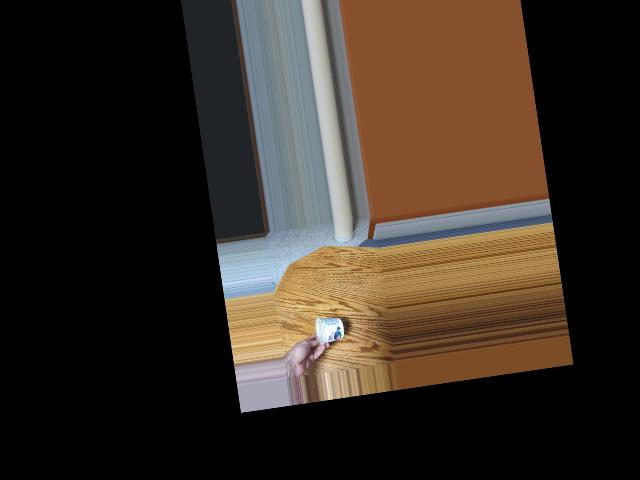cotage: (312, 311, 344, 347)
